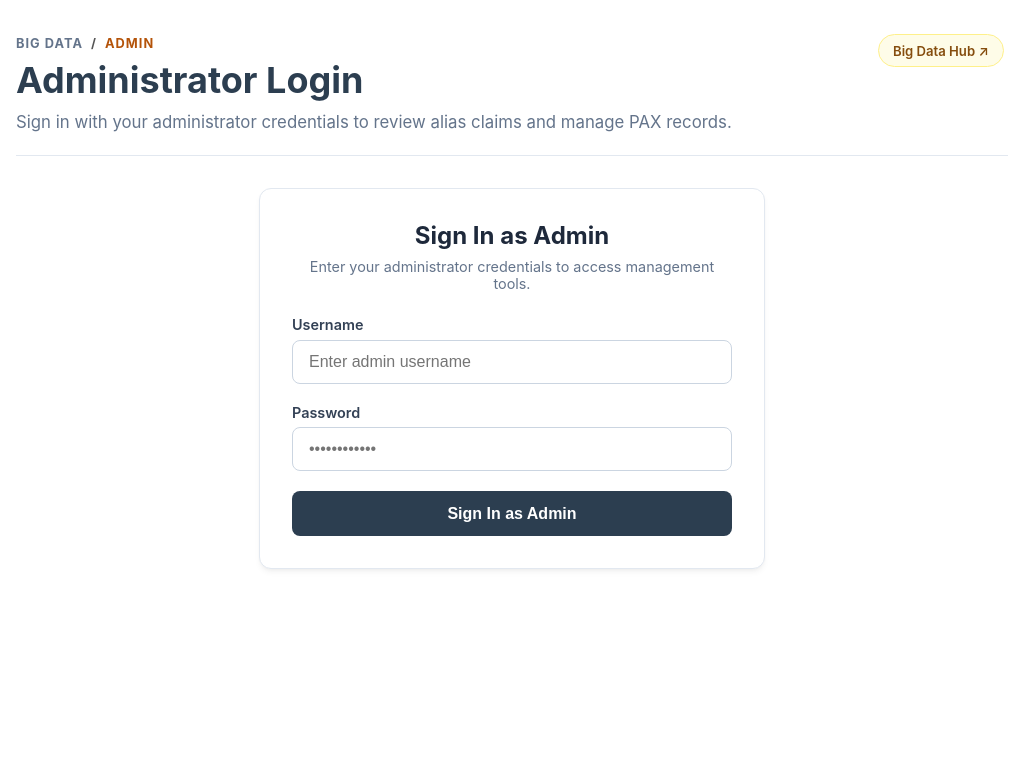
Test: Admin Portal Components › AdminLogin Component › displays error on invalid credentials
Type "wronguser" into the field with placeholder "Enter admin username" at point(512, 362), box x1=292 y1=340 x2=732 y2=384
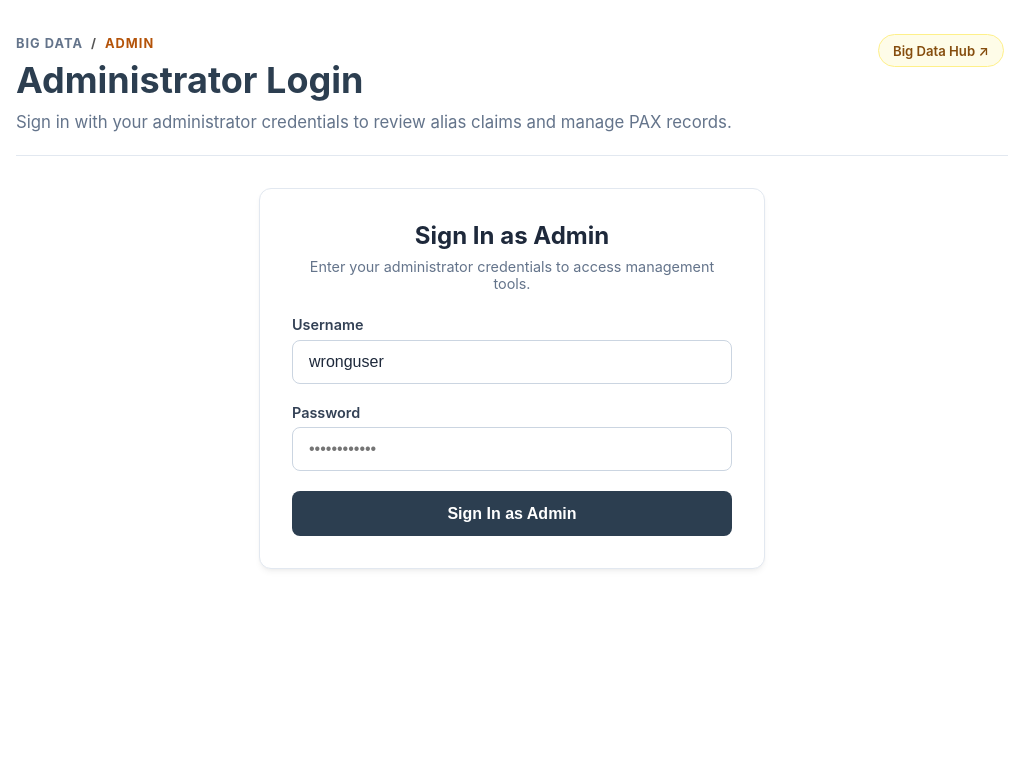
Type "wrongpass" into the password field with placeholder "••••••••••••" at point(512, 449), box x1=292 y1=427 x2=732 y2=471
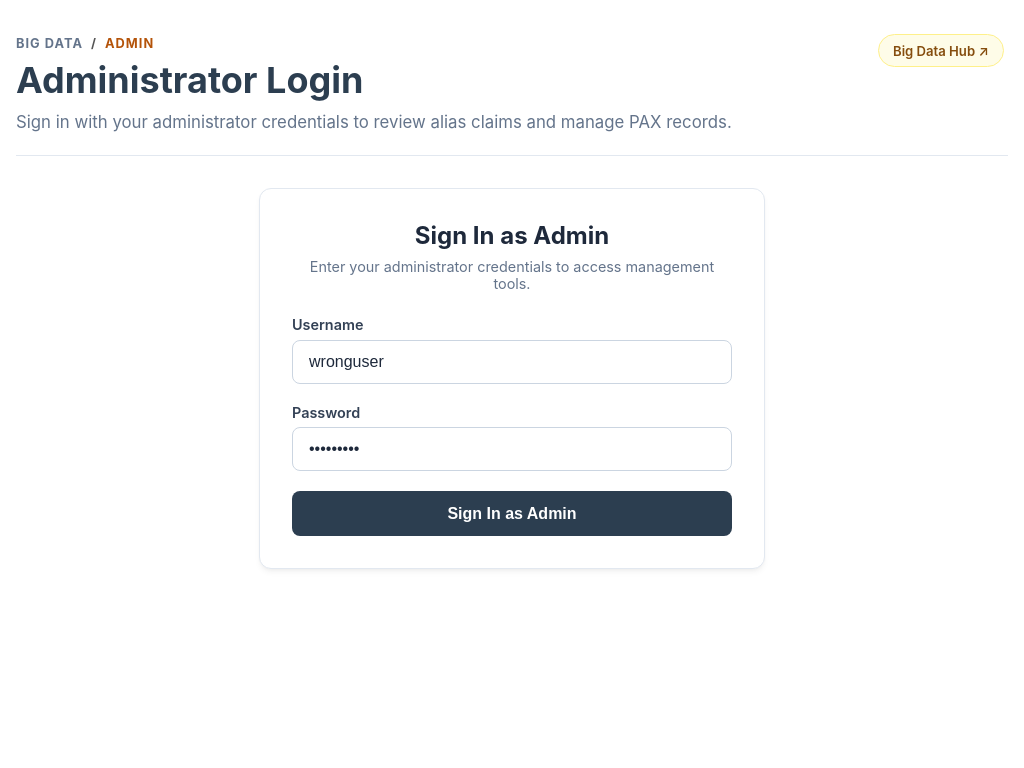
Click the button "Sign In as Admin" at point(512, 514), box x1=292 y1=491 x2=732 y2=536
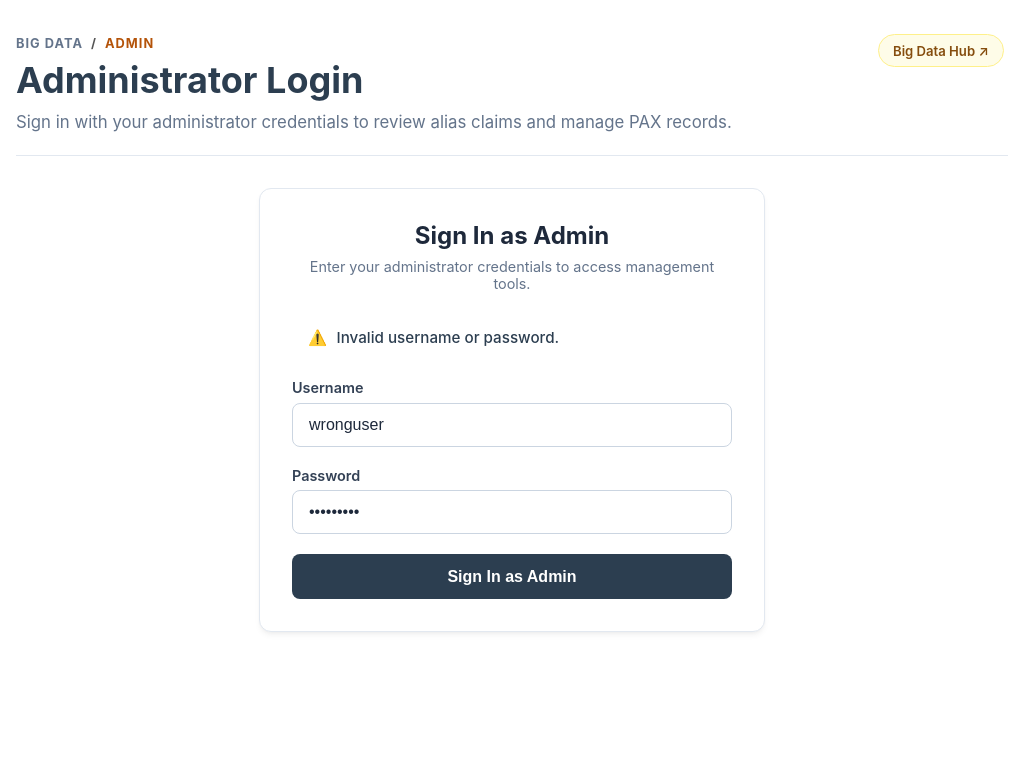
Check: the text "Invalid username or password." is shown, box x1=337 y1=328 x2=559 y2=347
